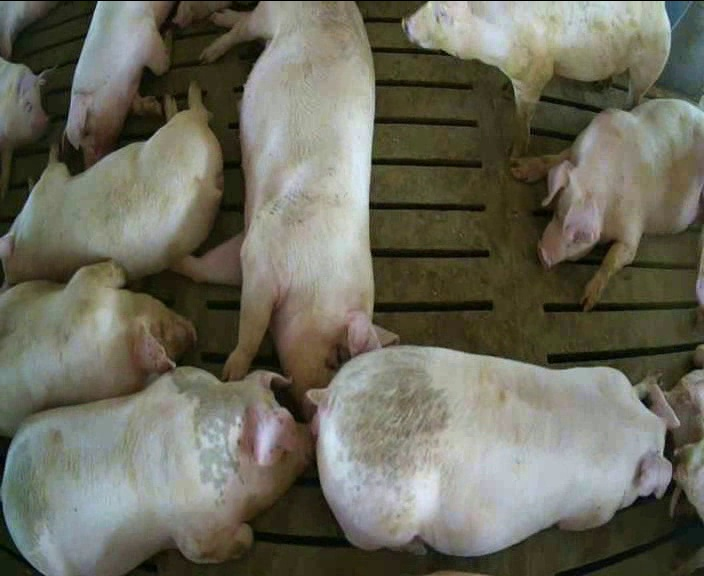pig: (179, 2, 399, 420), (307, 346, 679, 555), (2, 367, 313, 574), (0, 82, 221, 294), (403, 2, 670, 156), (0, 261, 195, 435), (61, 2, 172, 166)
